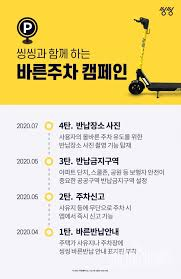kick_body: (150, 84, 181, 91)
kick_handler: (133, 17, 149, 28)
kick_neck: (138, 31, 147, 74)
kick_wheel: (128, 80, 144, 94)
